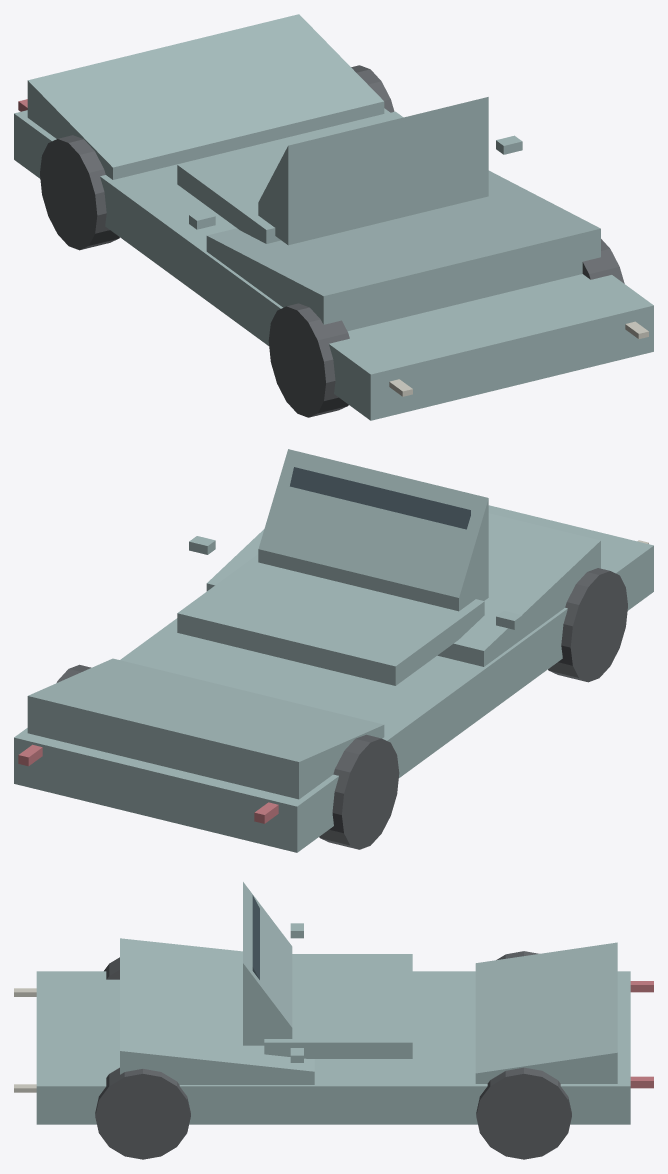
File: qingyu.glb
The picture shows the model from 3 angles, top to bottom: view 1: azimuth 30°, elevation 25°; view 2: azimuth 150°, elevation 25°; view 3: azimuth 270°, elevation 25°; orthographic projection. The views are drawn at different scales.
Visible parts, largest first — view 1: body, rear_deck, hood, windshield_frame, beltline, wheel_FL, wheel_RL, wheel_FR, wheel_RR; view 2: body, rear_deck, windshield_frame, beltline, hood, wheel_RL, wheel_FL, windshield_glass; view 3: body, hood, rear_deck, beltline, wheel_FR, wheel_RR, windshield_frame, windshield_glass.
Boxes of the visible parts, left/top/right/bottom form: body: left=14, top=108, right=653, bottom=420; rear_deck: left=27, top=14, right=384, bottom=179; hood: left=206, top=170, right=600, bottom=331; windshield_frame: left=258, top=97, right=488, bottom=245; beltline: left=177, top=111, right=403, bottom=243; wheel_FL: left=268, top=303, right=349, bottom=417; wheel_RL: left=40, top=135, right=119, bottom=250; wheel_FR: left=582, top=239, right=624, bottom=283; wheel_RR: left=351, top=65, right=394, bottom=112; body: left=14, top=505, right=653, bottom=852; rear_deck: left=27, top=658, right=384, bottom=799; windshield_frame: left=258, top=449, right=488, bottom=611; beltline: left=177, top=554, right=484, bottom=685; hood: left=206, top=513, right=600, bottom=666; wheel_RL: left=319, top=734, right=399, bottom=849; wheel_FL: left=548, top=568, right=627, bottom=682; windshield_glass: left=290, top=467, right=470, bottom=529; body: left=36, top=971, right=630, bottom=1124; hood: left=120, top=938, right=314, bottom=1084; rear_deck: left=475, top=942, right=617, bottom=1083; beltline: left=264, top=954, right=412, bottom=1058; wheel_FR: left=95, top=1067, right=190, bottom=1159; wheel_RR: left=476, top=1067, right=571, bottom=1159; windshield_frame: left=243, top=882, right=292, bottom=1045; windshield_glass: left=252, top=895, right=259, bottom=979.
Size of the model in its own units: 1.91 by 1.19 by 3.91.
